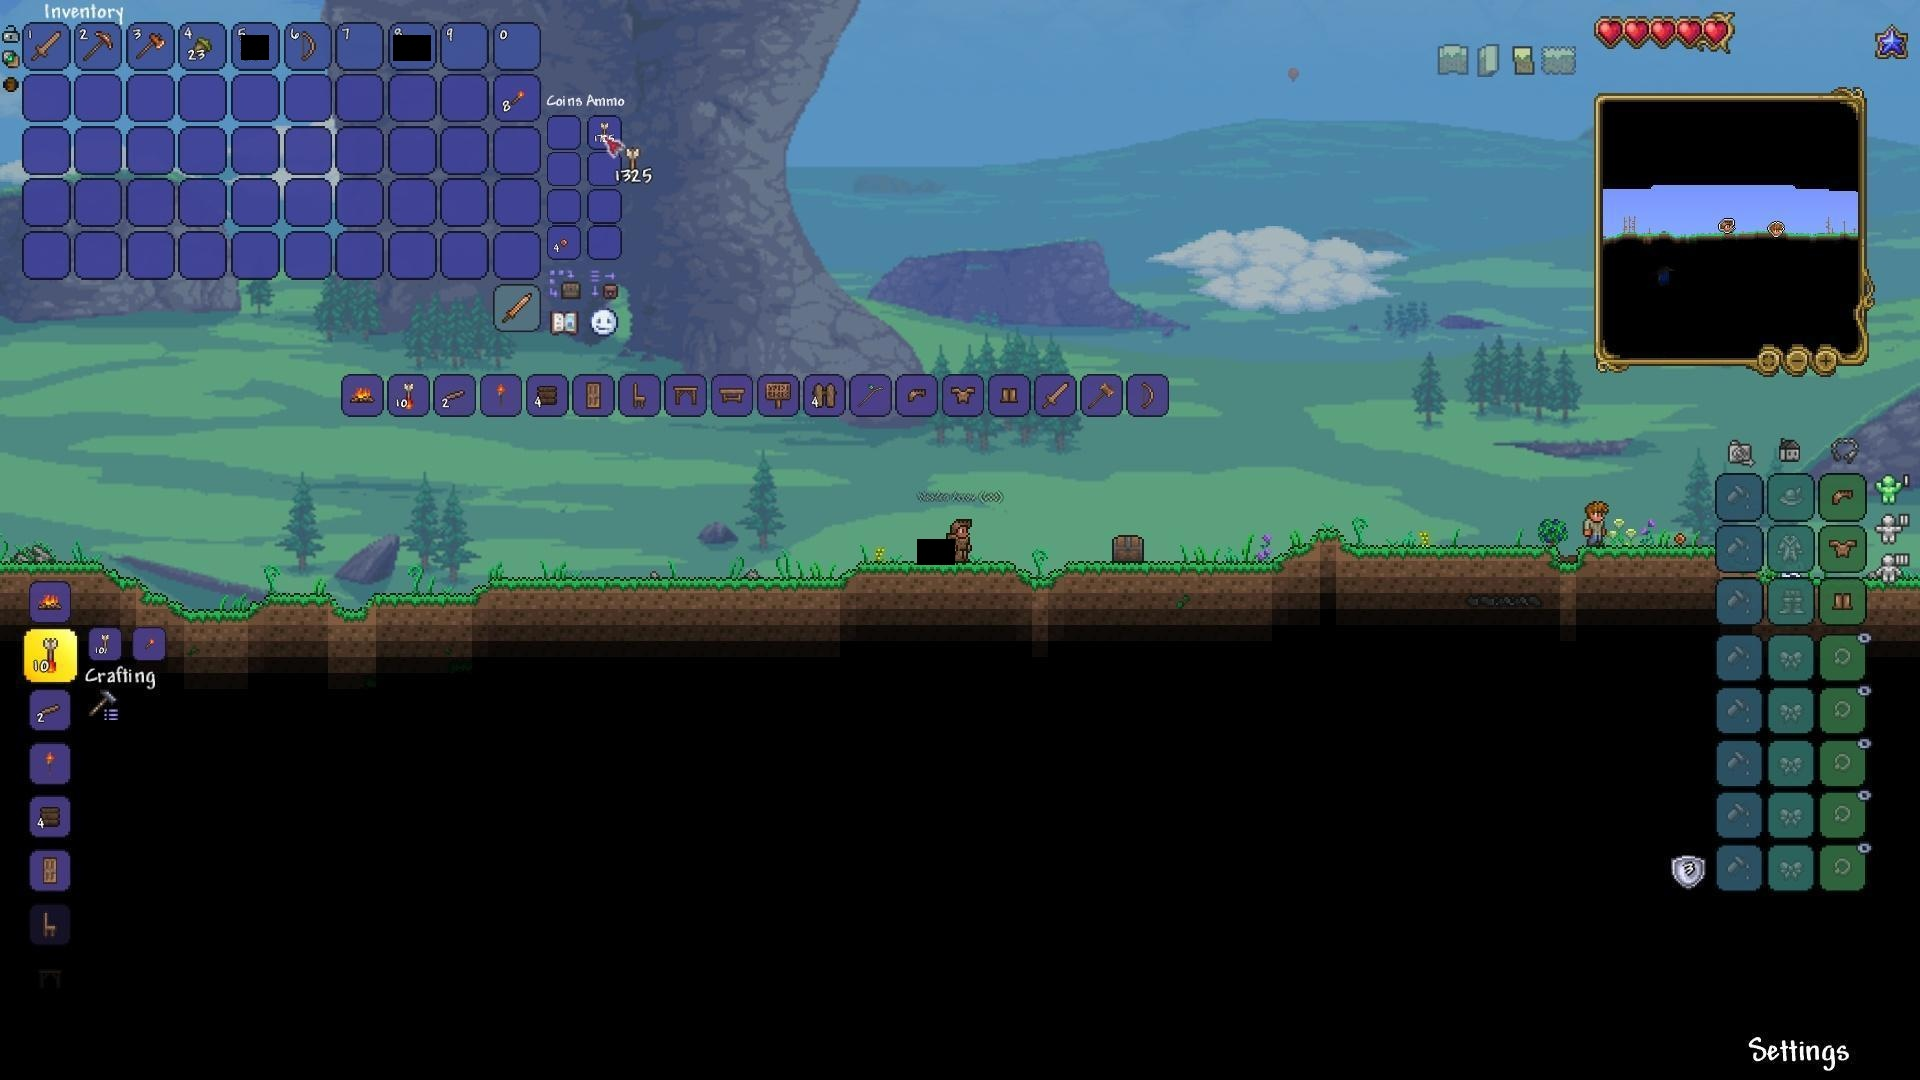breastplate: (1829, 538, 1859, 559), (948, 382, 977, 404)
helmet: (1828, 483, 1859, 512), (902, 382, 934, 410)
legs: (998, 382, 1023, 410), (1832, 588, 1855, 616)
workbench: (713, 382, 750, 407)
